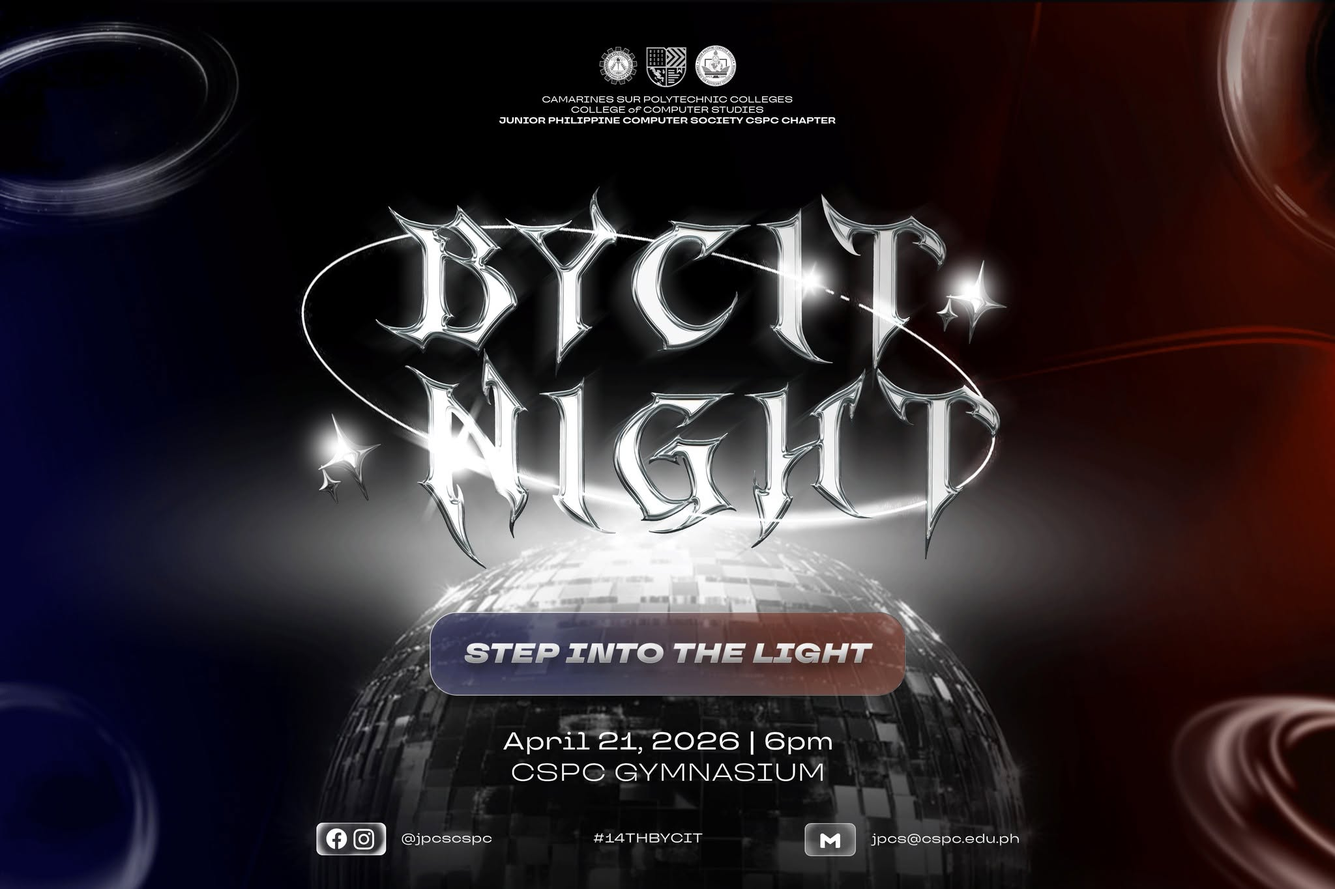embellishment: (302, 225, 997, 536), (0, 27, 246, 218), (428, 612, 907, 696), (1169, 694, 1335, 888), (1218, 0, 1335, 243), (939, 255, 1008, 343), (316, 416, 383, 500)
logo: (316, 821, 387, 856), (802, 821, 857, 858), (645, 46, 688, 87), (694, 46, 737, 86), (598, 46, 639, 86)
text: (402, 343, 1001, 556), (375, 195, 946, 393), (465, 643, 872, 663), (503, 731, 832, 754), (511, 762, 824, 782), (498, 117, 836, 124), (542, 96, 793, 104), (870, 833, 1019, 845), (573, 106, 762, 113), (400, 833, 493, 845), (593, 833, 702, 843)
underlay: (428, 612, 907, 697), (316, 823, 386, 856), (805, 823, 856, 856)
